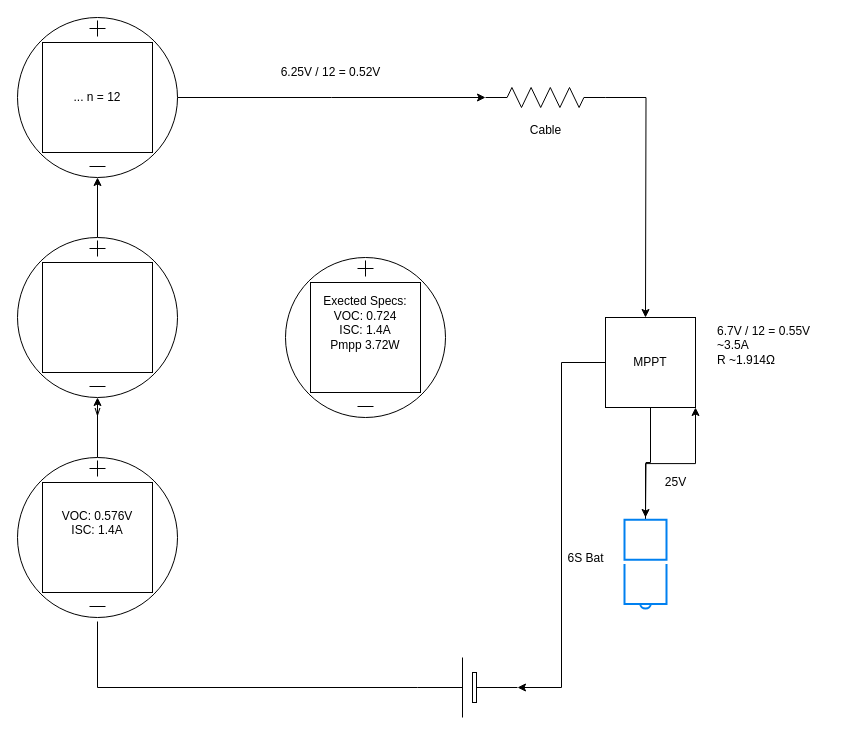
Some shapes in this 853 by 756 pixel diagram are drawn without their labels. Here are the shapes that lost their labels. From the top down, the centre of each, then its label:
At point 97,317: "VOC: 0.56V ISC: 1.52A".
At point 467,687: "220 V".
